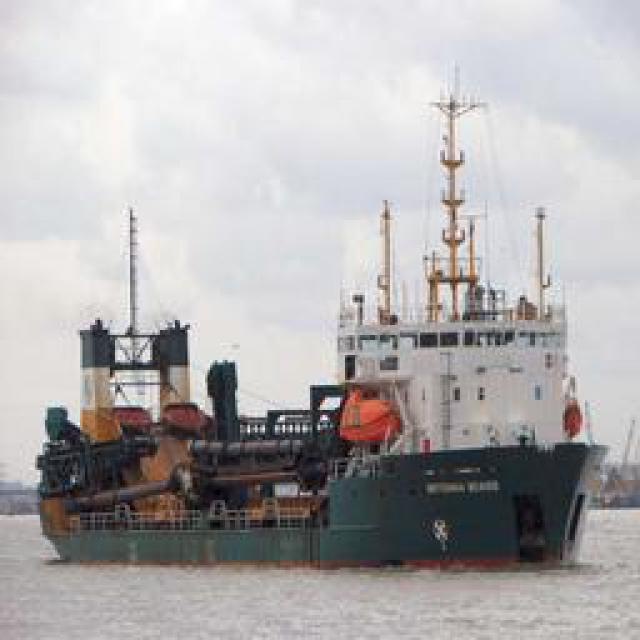Ship: (235, 94, 600, 529)
